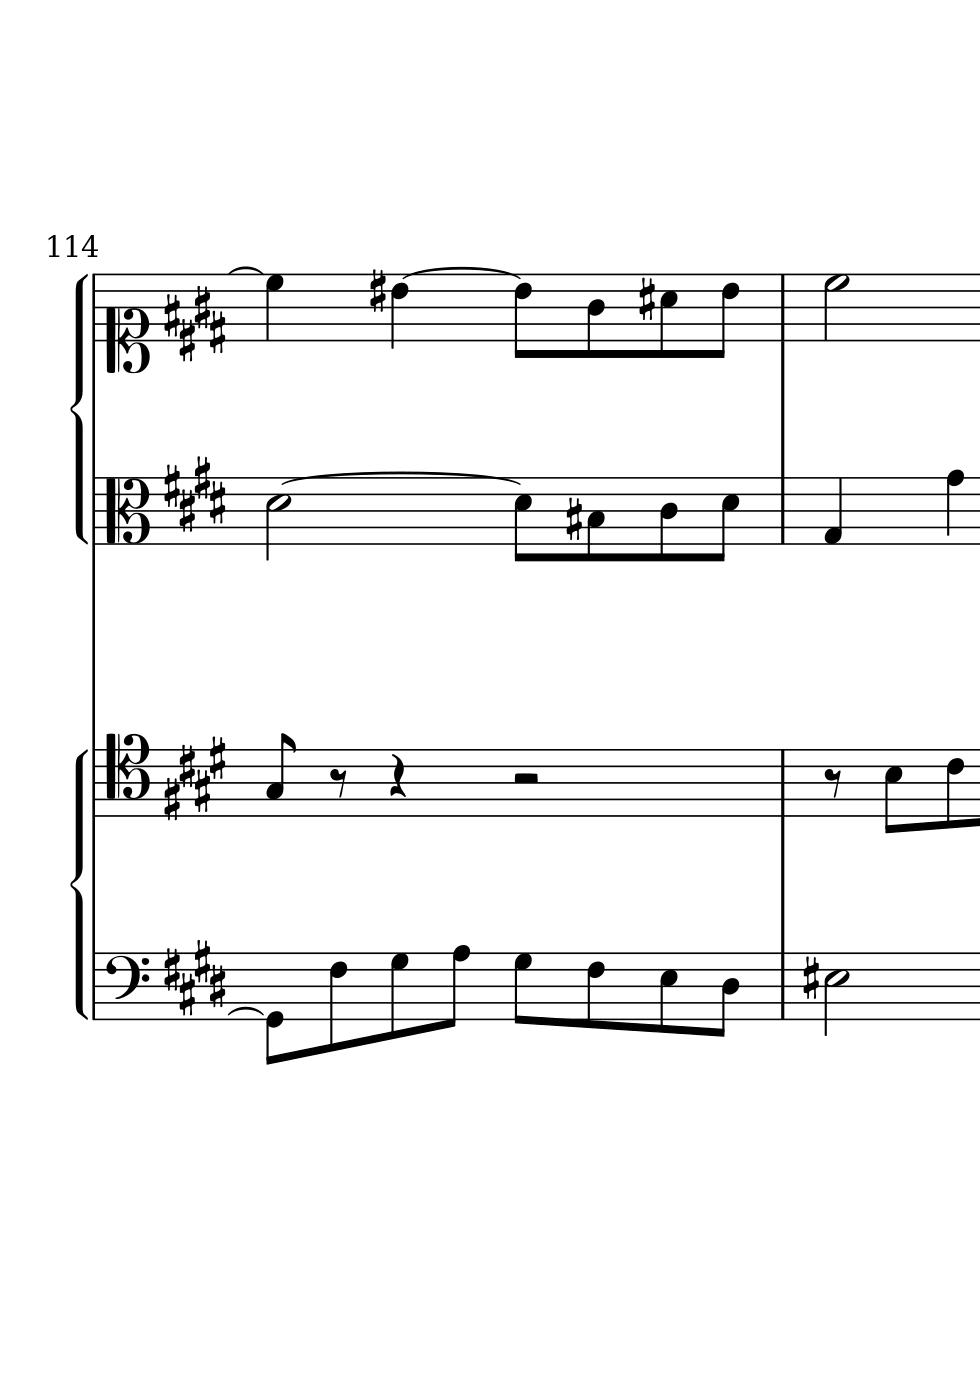1: (46, 233, 62, 261), (63, 233, 78, 260)
2_5: (263, 476, 291, 561), (822, 950, 848, 1038)
2_7: (821, 271, 848, 343)
4: (81, 232, 99, 261)
4_1: (821, 475, 845, 547)
4_6: (389, 271, 412, 350)
4_7: (261, 271, 284, 344)
4_8: (945, 467, 966, 547)
8_0: (264, 950, 284, 1065)
8_3: (265, 732, 296, 818), (585, 477, 607, 565)
8_4: (711, 951, 741, 1039), (657, 475, 679, 565), (584, 271, 606, 361)
8_5: (711, 475, 739, 564), (511, 476, 533, 565), (657, 950, 679, 1035), (657, 271, 678, 359), (882, 747, 903, 836)
8_6: (708, 271, 740, 361), (327, 950, 348, 1054), (944, 747, 965, 831), (512, 271, 532, 361), (584, 950, 605, 1031)
8_7: (388, 951, 409, 1042), (512, 950, 533, 1027)
8_8: (440, 943, 470, 1030)
Brace: (69, 741, 90, 1027), (71, 271, 90, 543)
Cclef: (101, 475, 151, 547)
E_S: (163, 733, 225, 822), (162, 453, 224, 536), (163, 281, 224, 362), (163, 942, 223, 1018)
Fclef: (102, 950, 148, 1022)
Rests2: (509, 770, 542, 788)
Rests4: (386, 752, 408, 800)
Rests8: (327, 767, 350, 800), (822, 766, 844, 800)
Sharp: (634, 275, 657, 324), (561, 496, 583, 544), (800, 954, 820, 1002), (368, 267, 386, 313)
Single_barline: (773, 274, 792, 343), (773, 477, 791, 544), (87, 749, 103, 818), (87, 274, 103, 341), (774, 750, 790, 815), (775, 952, 790, 1019), (88, 477, 102, 545), (88, 953, 101, 1021)
Slur: (281, 469, 517, 487), (404, 265, 521, 281), (226, 1006, 264, 1018), (227, 265, 264, 276)
Soprano_Cclef: (104, 271, 150, 376)
Tensor_Cclef: (103, 732, 150, 817)
